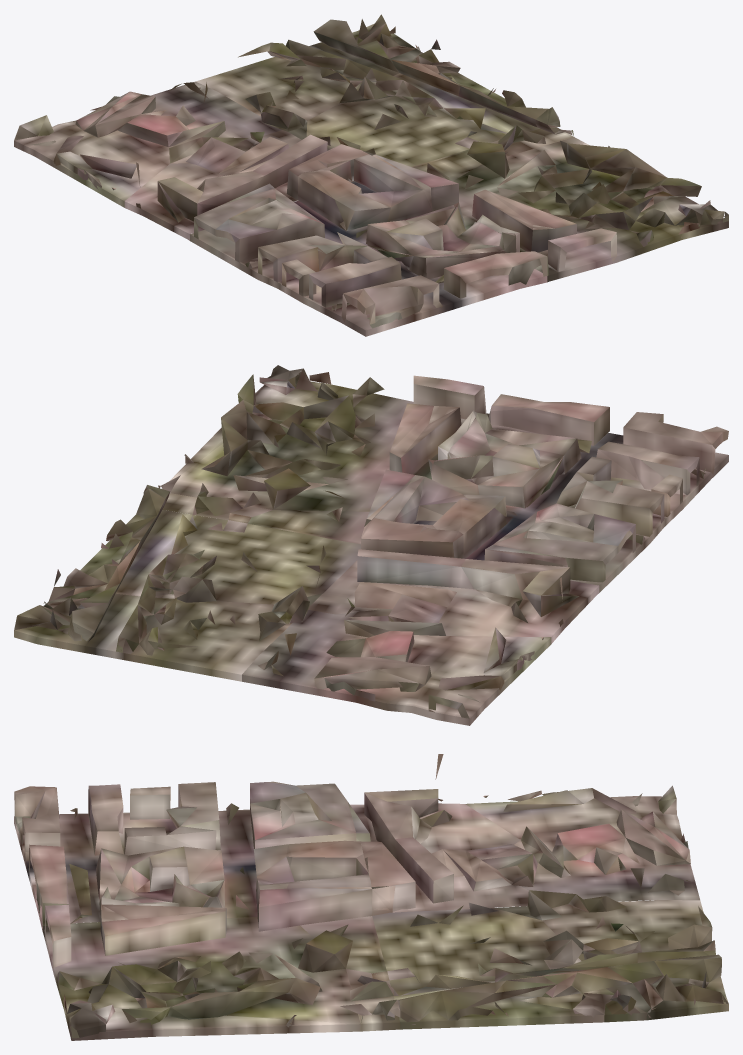
3 renders of one model, top to bottom at view 1: azimuth 30°, elevation 25°; view 2: azimuth 150°, elevation 25°; view 3: azimuth 270°, elevation 25°, orthographic. The views are drawn at different scales.
Parts seen in each view (by area): view 1: Mesh_0; view 2: Mesh_0; view 3: Mesh_0.
Boxes of the visible parts, box(x1,y1,x2,y2) form: Mesh_0: box(14, 14, 728, 336); Mesh_0: box(14, 365, 728, 725); Mesh_0: box(14, 754, 728, 1040).
Bounding box in the file's own units: 532 × 62.21 × 659.
Materials: 2 (2 with a texture image).
